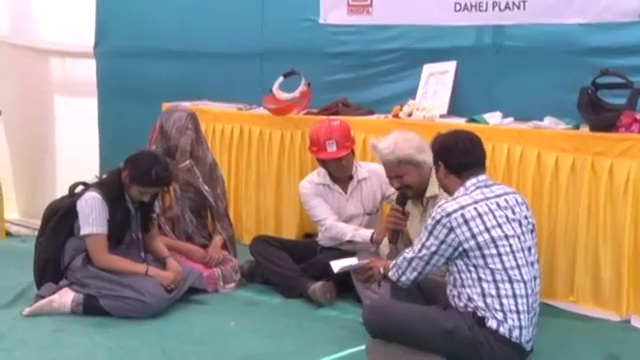helmet: (306, 117, 358, 161)
helmet_off: (374, 127, 433, 204), (427, 129, 489, 202), (151, 111, 204, 171), (115, 153, 172, 207)
helmet_on: (305, 116, 359, 192)
person: (358, 130, 541, 360), (16, 151, 200, 318), (242, 113, 385, 300), (140, 102, 238, 287), (351, 131, 448, 306)
